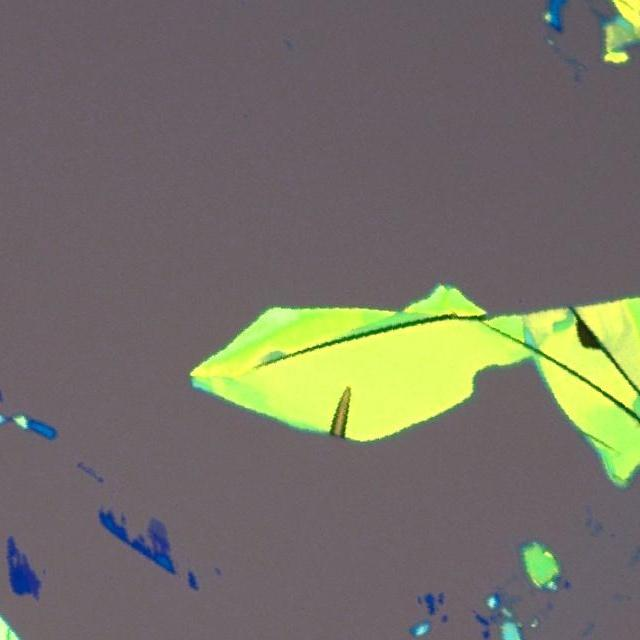monolayer-eWW4: (149, 516, 168, 538)
